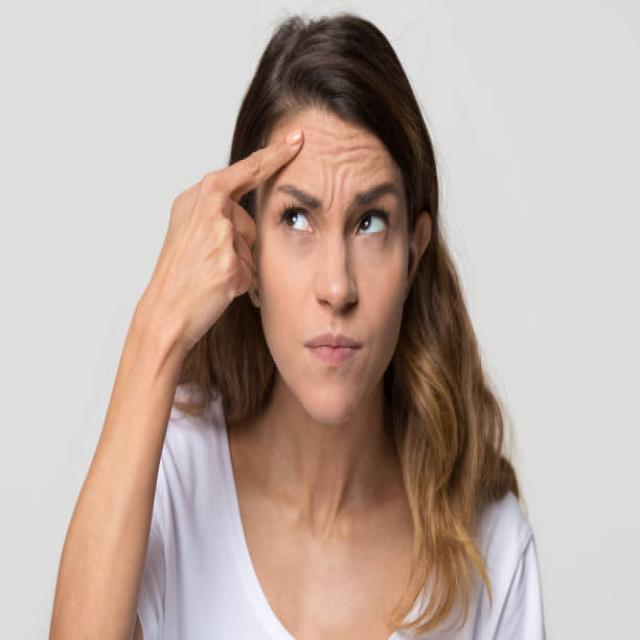Wrinkles: (326, 154, 366, 215), (306, 127, 357, 140), (319, 146, 377, 156), (340, 169, 350, 211), (321, 163, 331, 202), (366, 165, 386, 181), (361, 160, 381, 175)
